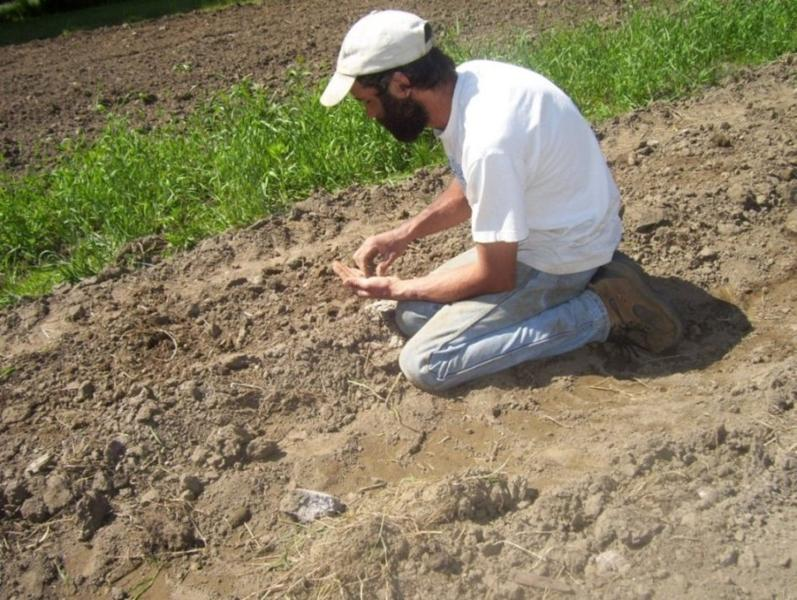person: (319, 10, 684, 394)
